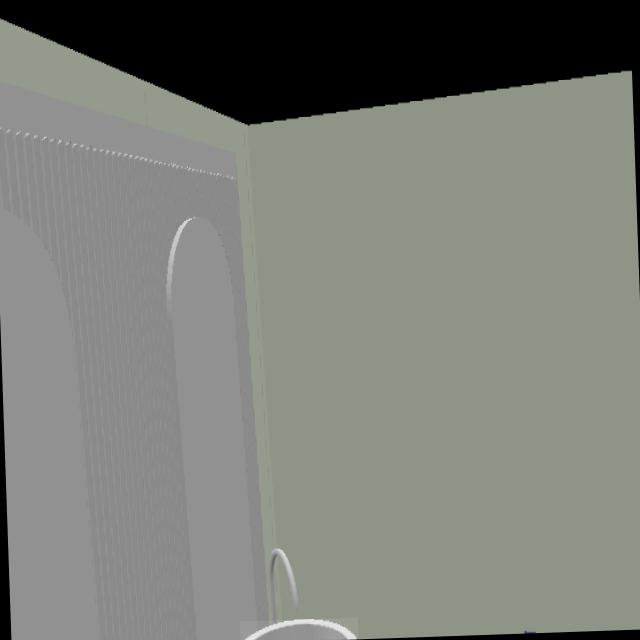washbasin: (244, 620, 357, 640)
